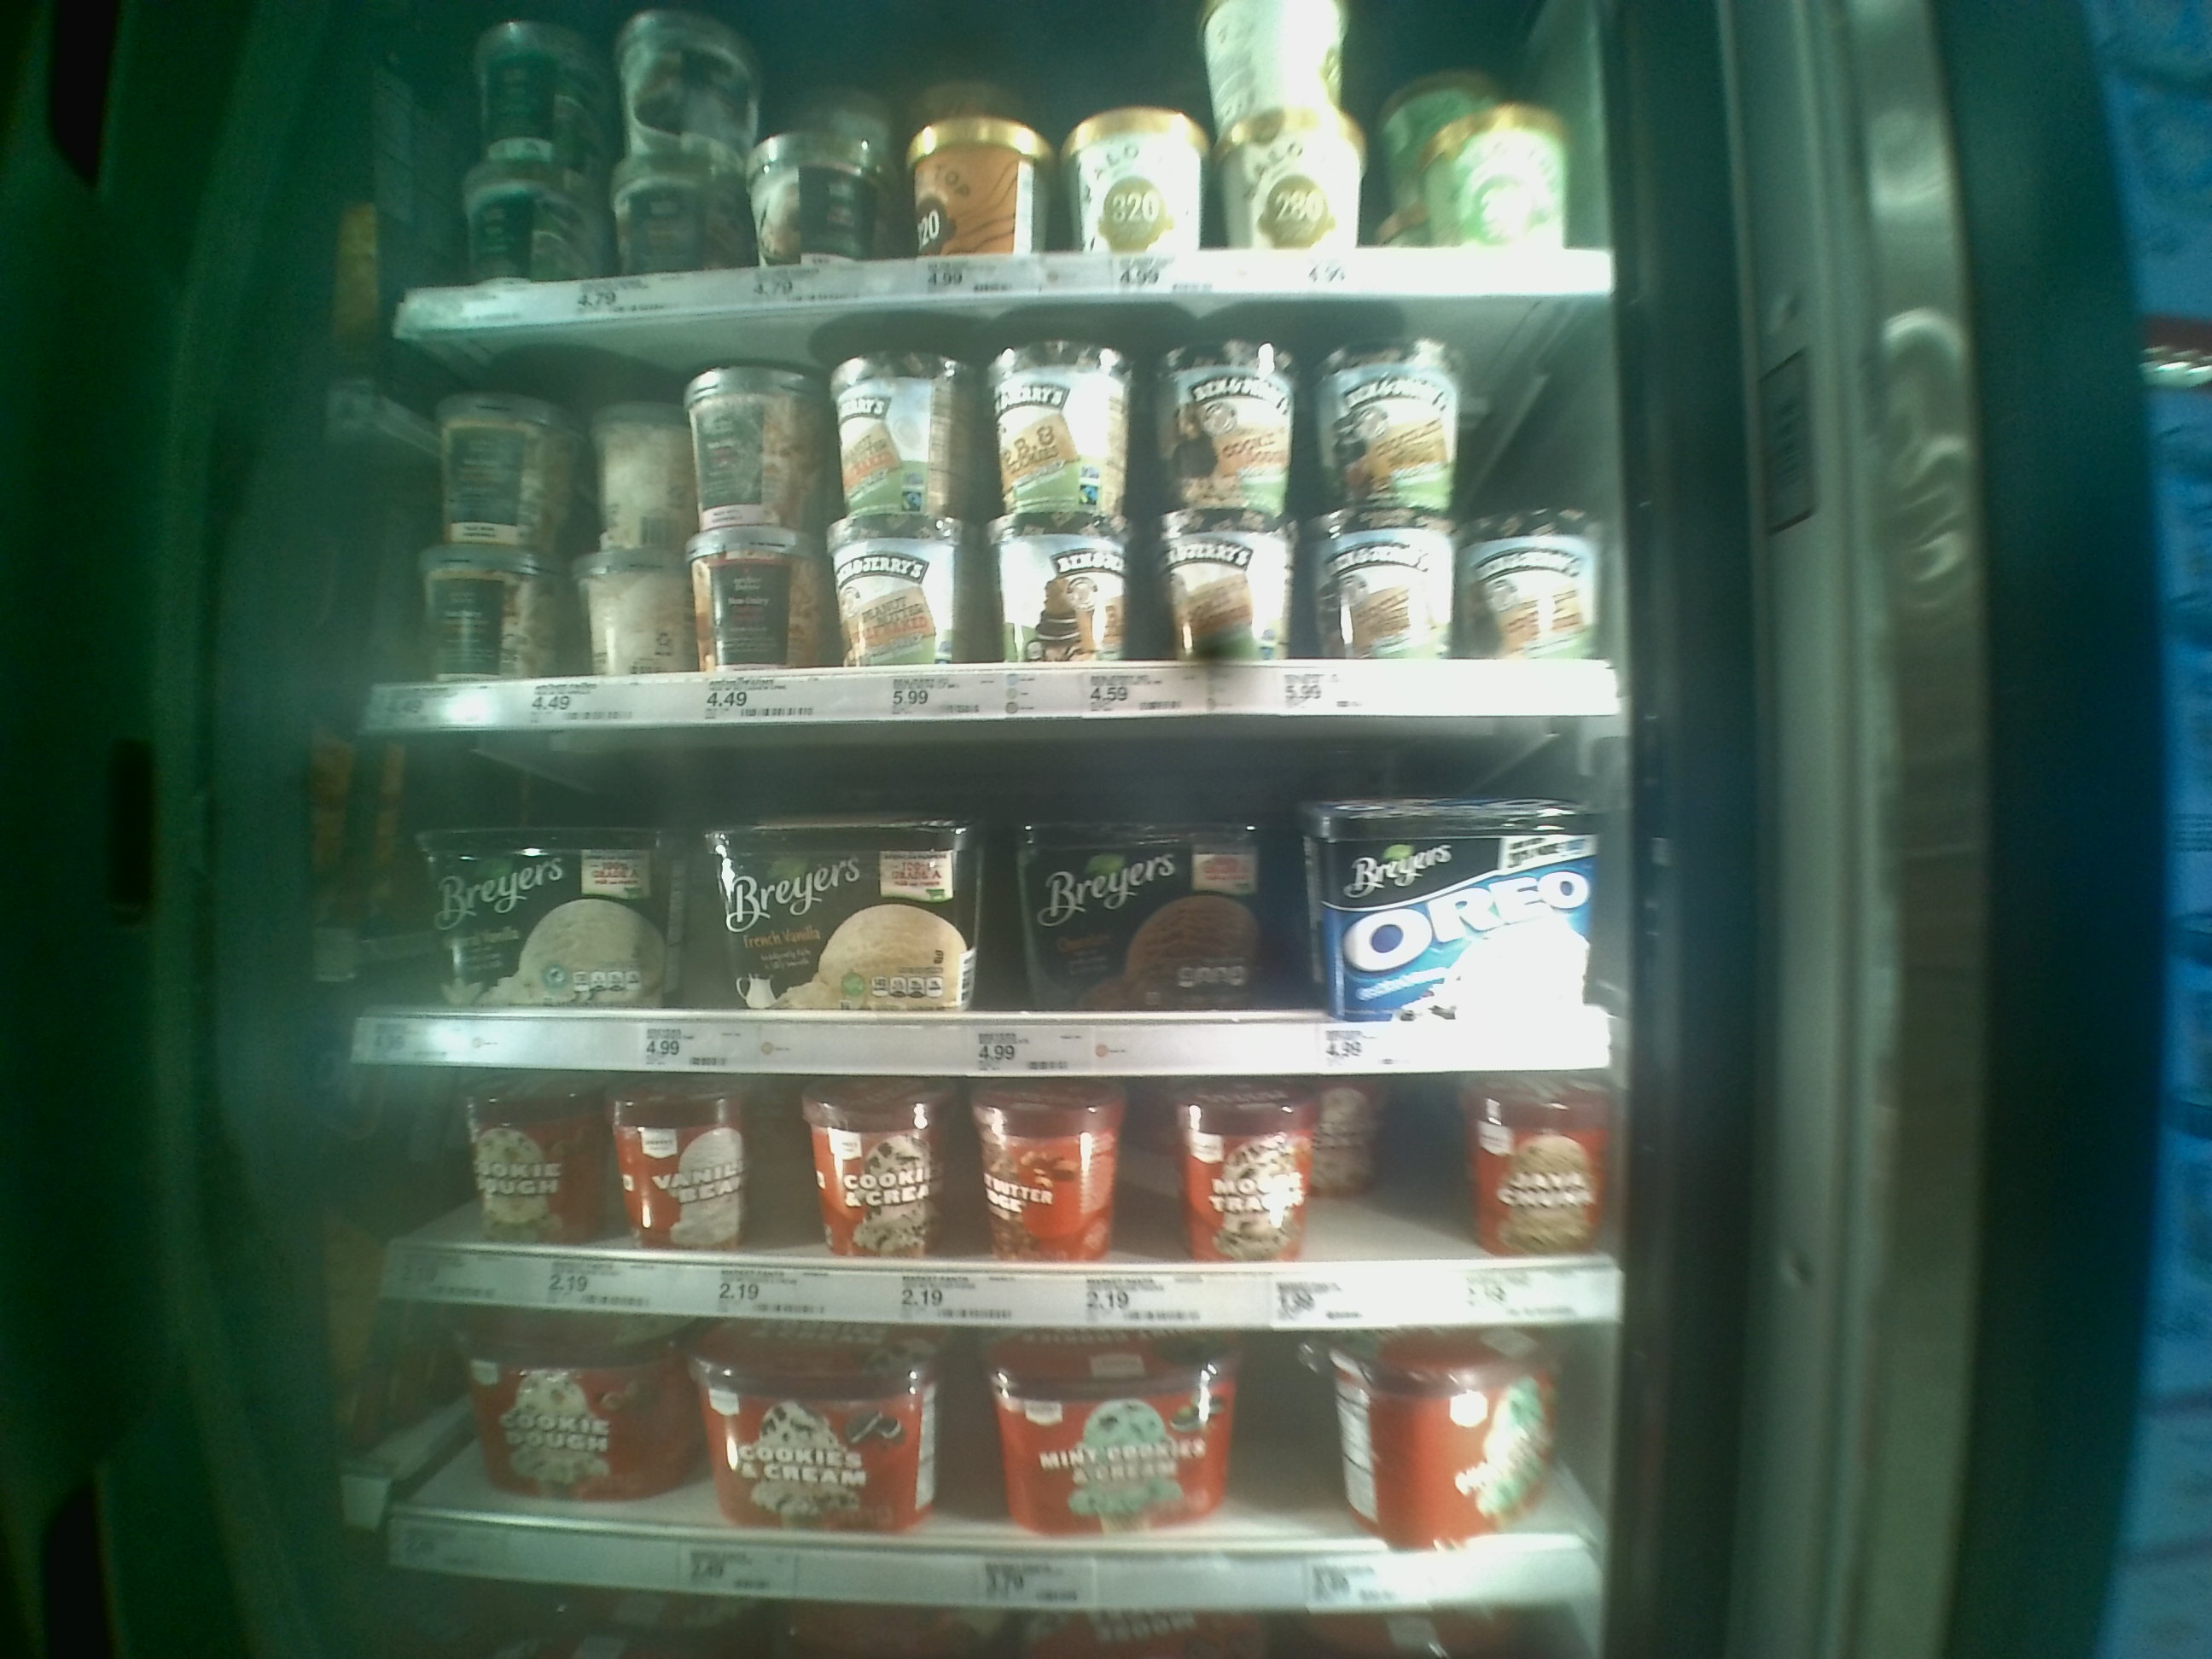ice-cream-shelf: (359, 354, 1616, 727), (343, 734, 1618, 1072), (387, 1312, 1602, 1601), (361, 1068, 1620, 1328)
